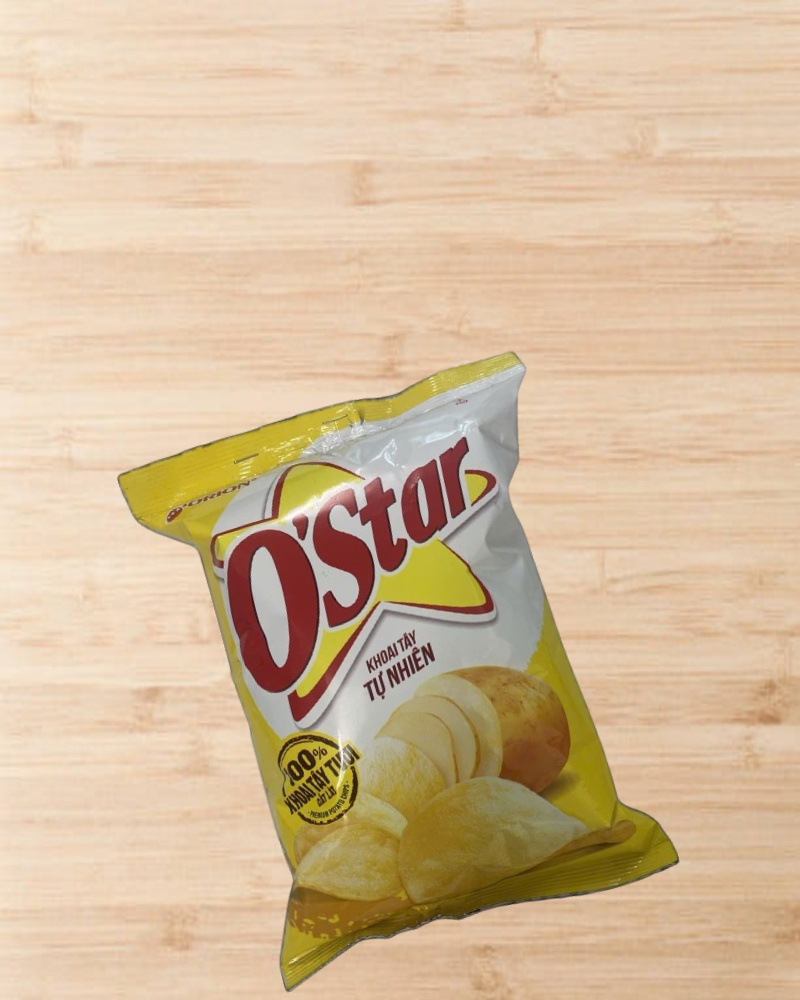O'star: (114, 344, 686, 1000)
